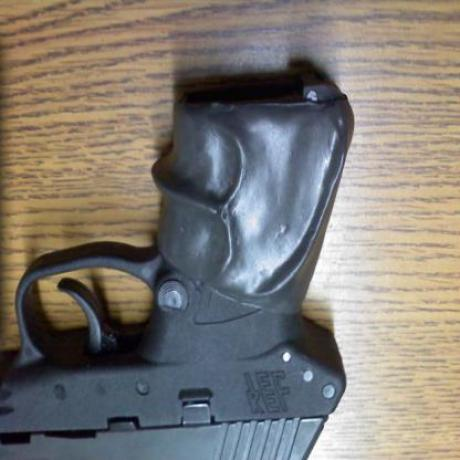weapon: (0, 61, 373, 460)
